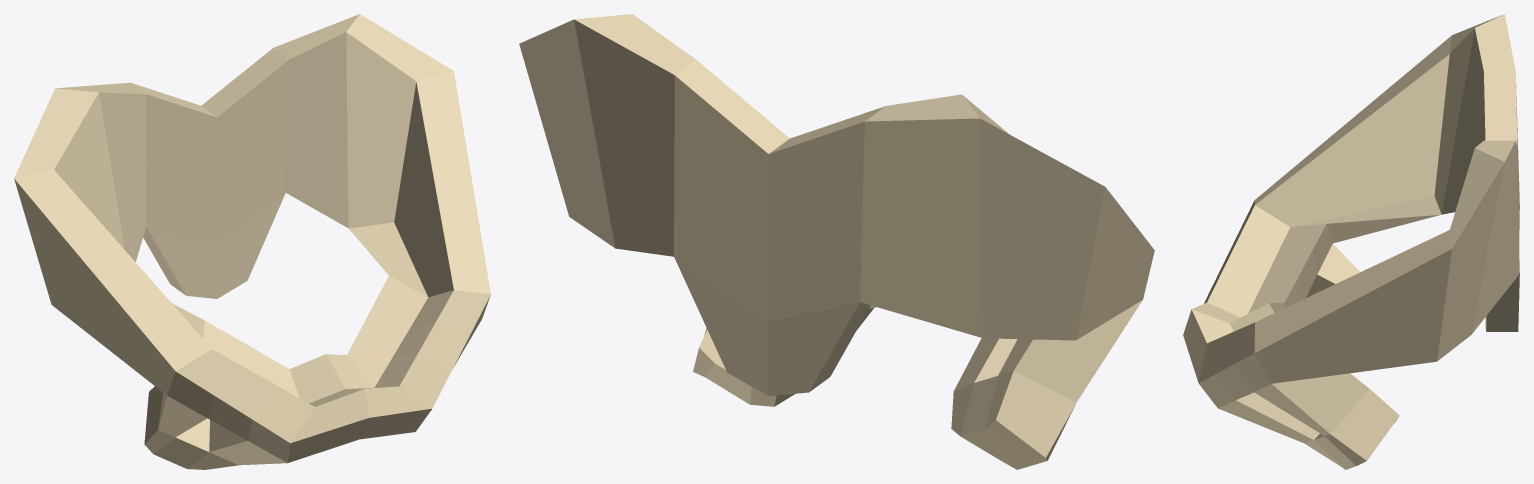
File: hipbone.fbx
3 renders of one model, left to right at view 1: azimuth 30°, elevation 25°; view 2: azimuth 150°, elevation 25°; view 3: azimuth 270°, elevation 25°, orthographic. The views are drawn at different scales.
Parts seen in each view (by area): view 1: Cube.008; view 2: Cube.008; view 3: Cube.008.
Boxes of the visible parts, x1,y1,x2,y2 form: Cube.008: (14, 14, 490, 469); Cube.008: (519, 14, 1154, 469); Cube.008: (1183, 14, 1519, 469).
Size of the model in its own units: 33.3 by 24.31 by 22.19.
